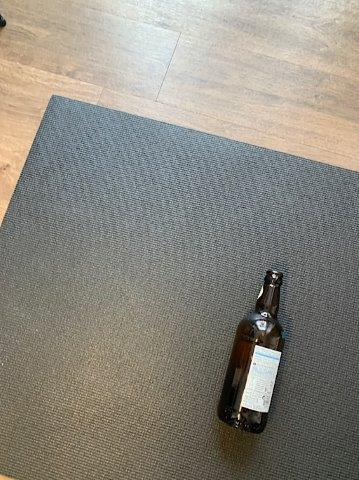botolkaca: (216, 271, 286, 433)
